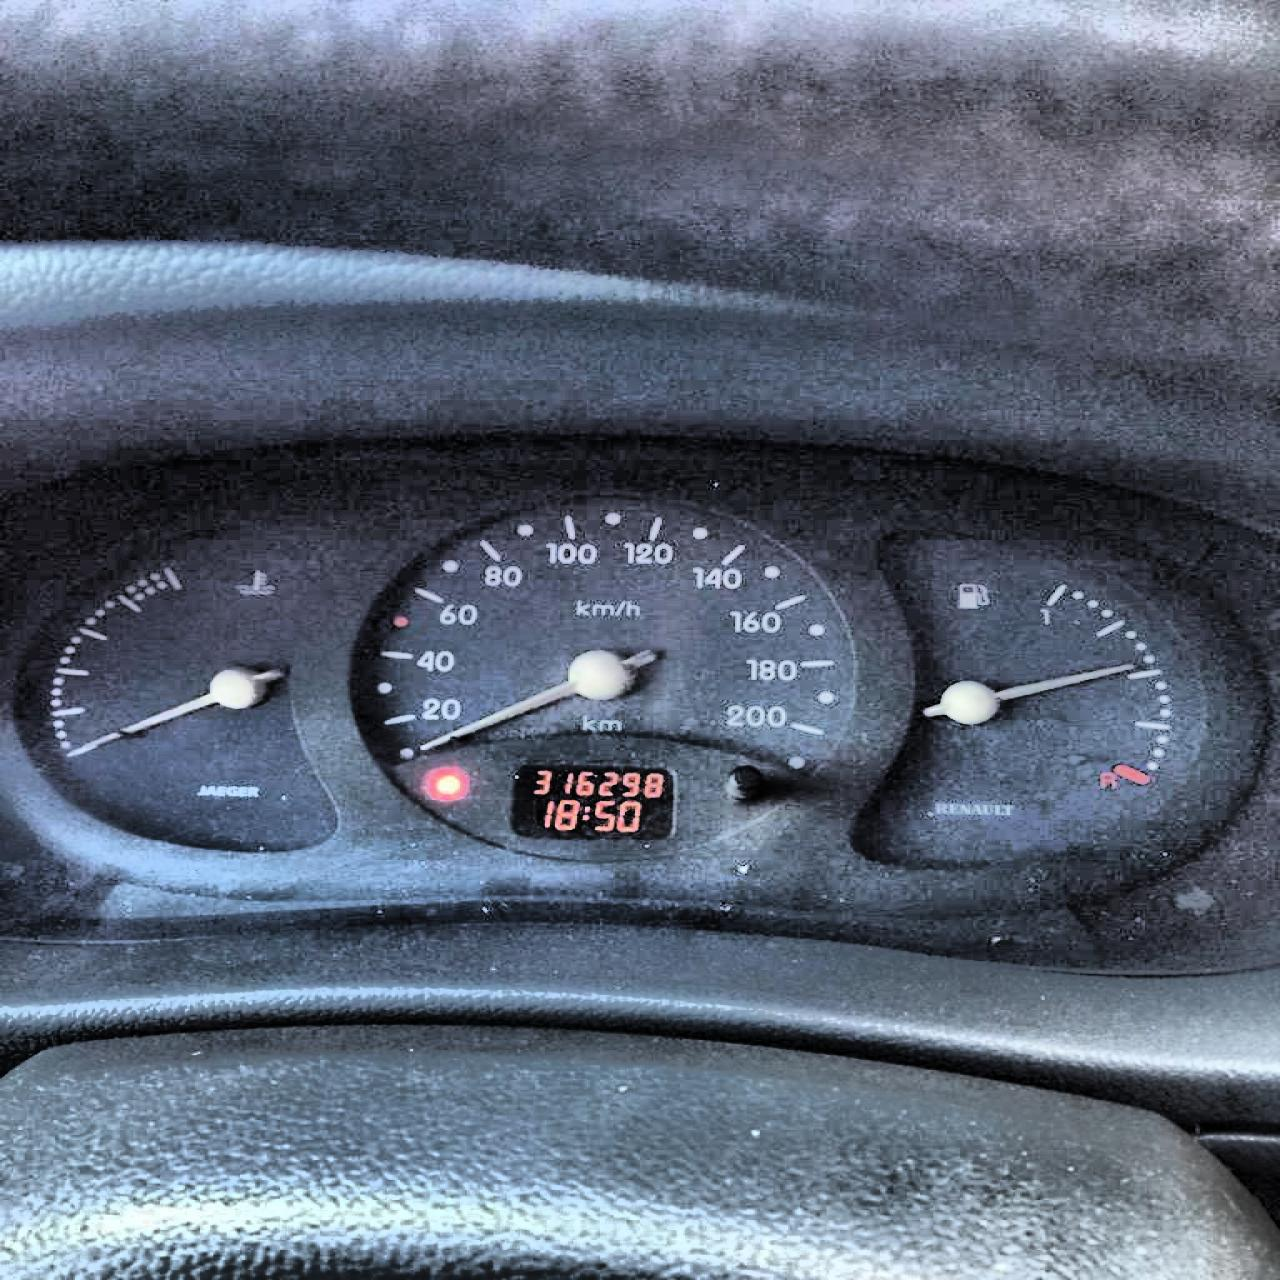0: (615, 799, 640, 831)
1: (540, 799, 552, 826), (561, 771, 572, 792)
2: (597, 771, 617, 795)
3: (532, 770, 549, 794)
5: (593, 799, 613, 830)
6: (576, 770, 592, 794)
8: (553, 799, 577, 829), (641, 772, 661, 797)
9: (620, 771, 639, 797)
X: (580, 805, 590, 821)
odometer: (509, 763, 675, 838)
